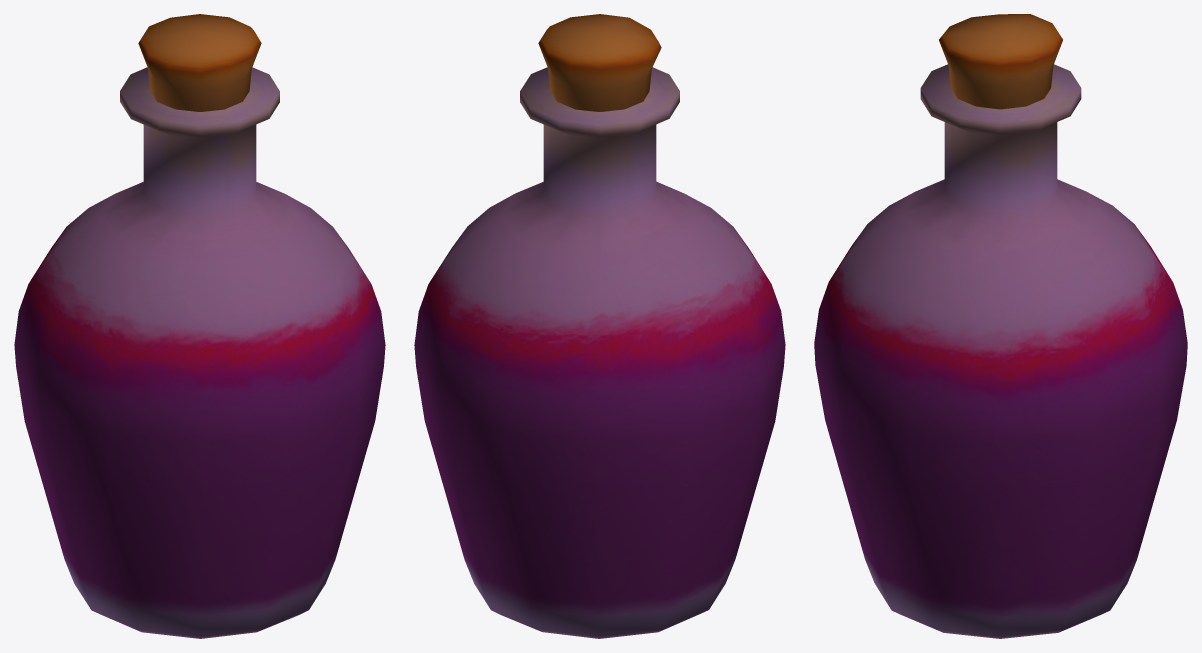
File: red_potion.glb
3 renders of one model, left to right at view 1: azimuth 30°, elevation 25°; view 2: azimuth 150°, elevation 25°; view 3: azimuth 270°, elevation 25°, orthographic.
Parts seen in each view (by area): view 1: tripo_node_14cac64e-b13e-460b-80de-70500ef8f013; view 2: tripo_node_14cac64e-b13e-460b-80de-70500ef8f013; view 3: tripo_node_14cac64e-b13e-460b-80de-70500ef8f013.
Part boxes in pixels (x1,y1,x2,y2): tripo_node_14cac64e-b13e-460b-80de-70500ef8f013: [14, 14, 385, 638]; tripo_node_14cac64e-b13e-460b-80de-70500ef8f013: [414, 14, 785, 638]; tripo_node_14cac64e-b13e-460b-80de-70500ef8f013: [814, 14, 1187, 638].
Bounding box in the file's own units: 0.6035 × 0.998 × 0.6035.
1 material, 1 textured.
